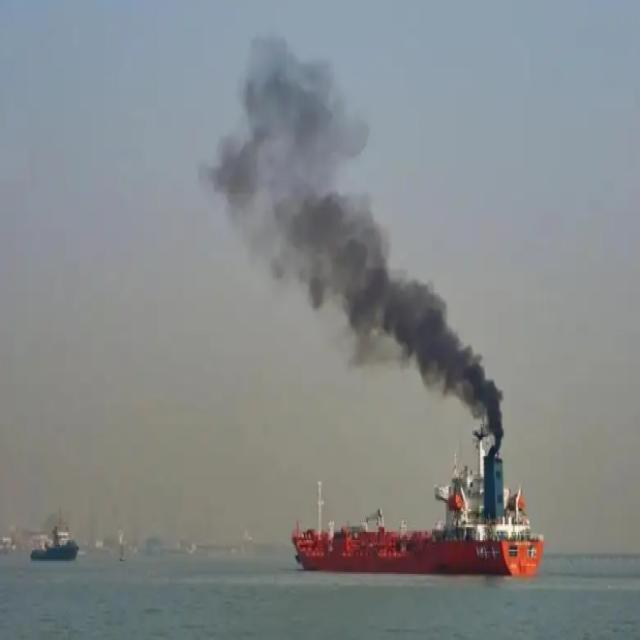cargoship: (288, 423, 540, 580), (29, 521, 79, 559)
